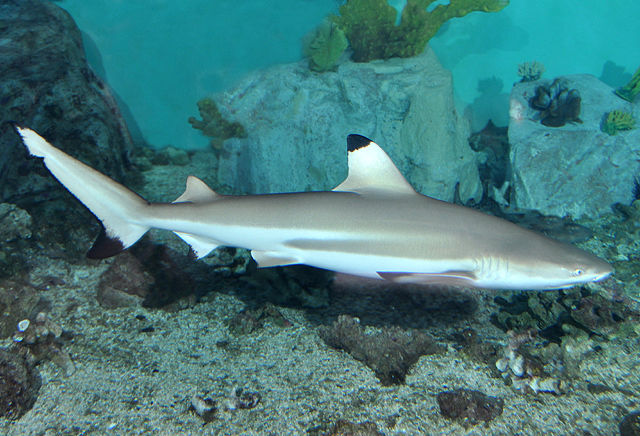fish: (14, 123, 614, 287)
